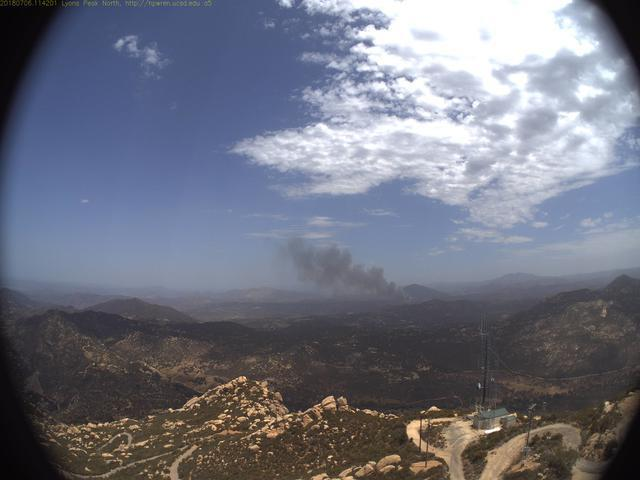Smoke: (274, 231, 419, 307)
